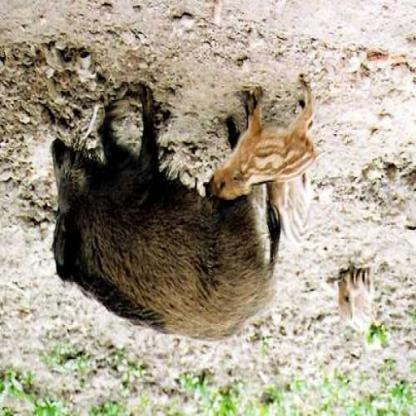boar: (14, 82, 288, 353), (206, 86, 321, 244)
